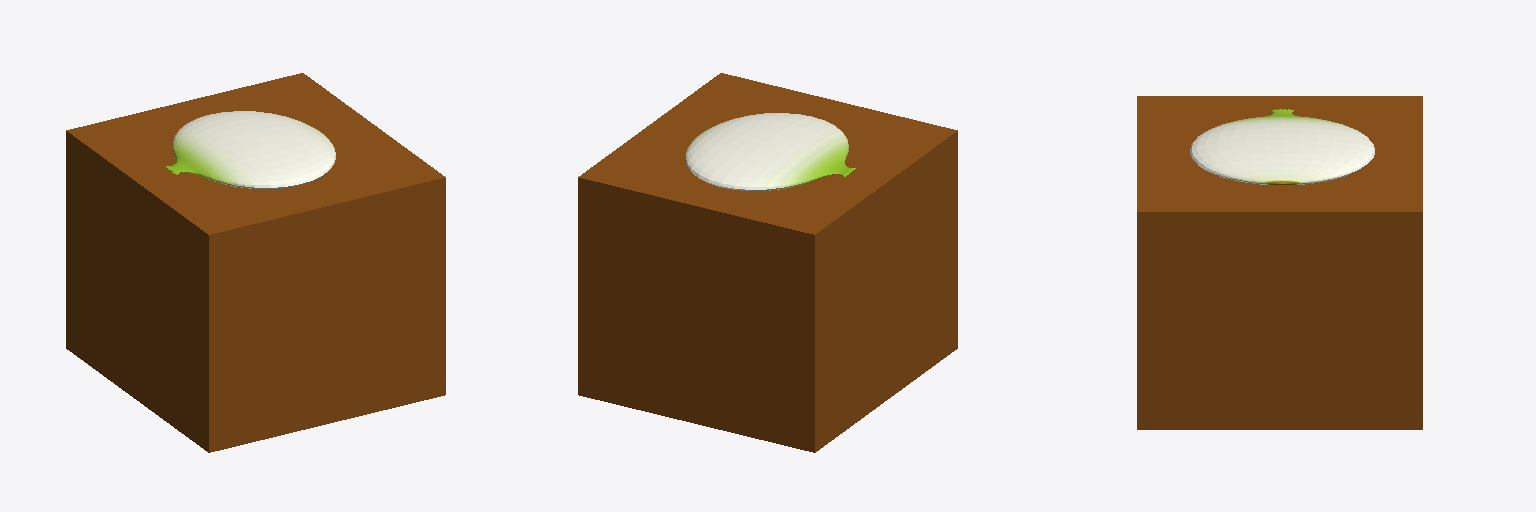
3 renders of one model, left to right at view 1: azimuth 30°, elevation 25°; view 2: azimuth 150°, elevation 25°; view 3: azimuth 270°, elevation 25°, orthographic.
Visible parts, largest first — view 1: Cube.008, Sphere.014; view 2: Cube.008, Sphere.014; view 3: Cube.008, Sphere.014.
Boxes of the visible parts, box(x1,y1,x2,y2) form: Cube.008: box(66, 73, 445, 452); Sphere.014: box(166, 111, 335, 188); Cube.008: box(578, 73, 957, 452); Sphere.014: box(685, 113, 855, 190); Cube.008: box(1137, 96, 1422, 429); Sphere.014: box(1190, 109, 1374, 184).
Bounding box in the file's own units: 2.74 × 2.56 × 2.86.
2 materials, 2 textured.